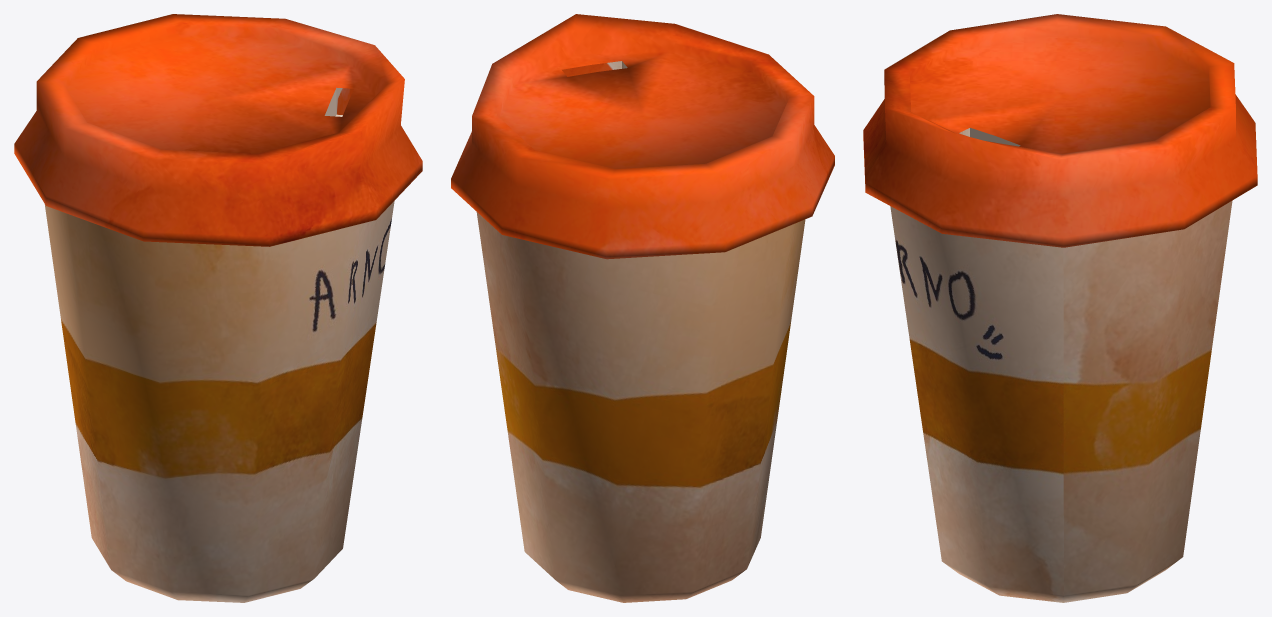
File: 03-gobeletcarton-model.glb
3 renders of one model, left to right at view 1: azimuth 30°, elevation 25°; view 2: azimuth 150°, elevation 25°; view 3: azimuth 270°, elevation 25°, orthographic. The views are drawn at different scales.
Visible parts, largest first — view 1: 03-gobeletcarton-model; view 2: 03-gobeletcarton-model; view 3: 03-gobeletcarton-model.
Part boxes in pixels (box(x1,y1,x2,y2)): 03-gobeletcarton-model: box(14, 14, 422, 602); 03-gobeletcarton-model: box(451, 14, 834, 602); 03-gobeletcarton-model: box(863, 14, 1257, 602).
Size of the model in its own units: 2.61 by 3.52 by 2.57.
Materials: 1 (1 with a texture image).
